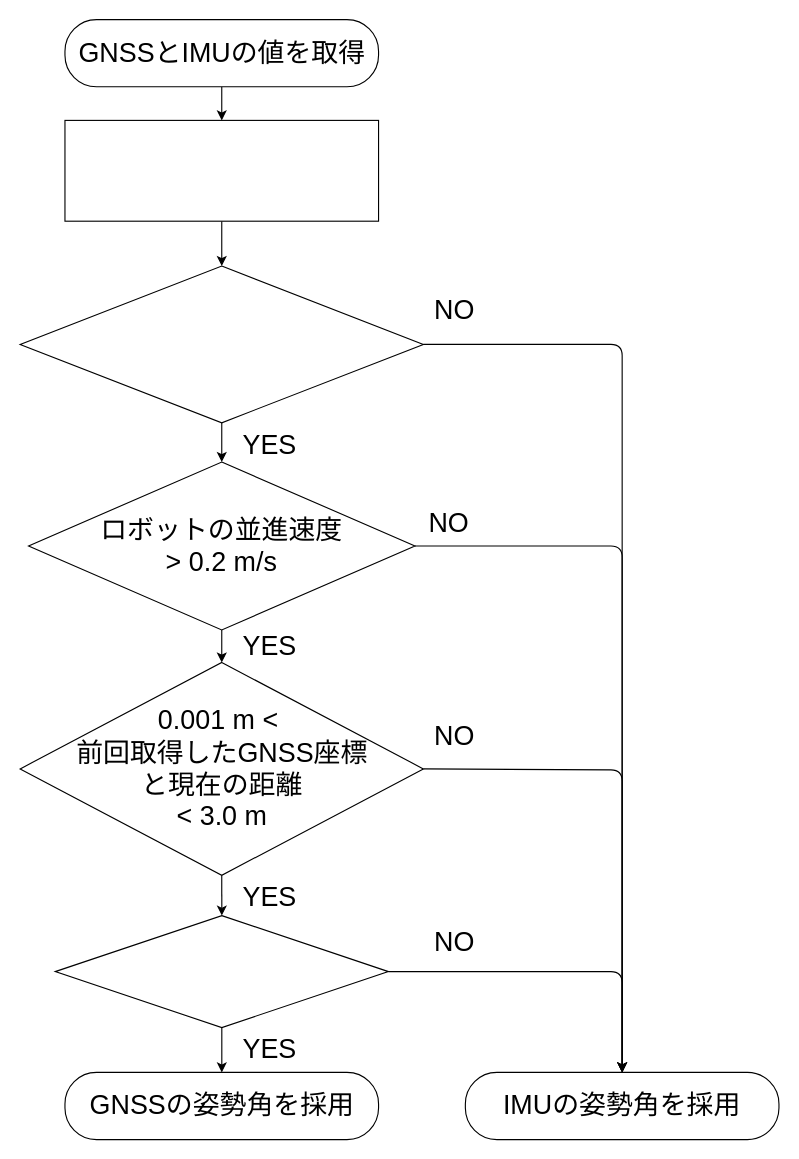
Image size: 799x1159. Some labels were removed from this diagram. Each missing label, with the box of its shape:
fix解が得られているか: (19, 265, 423, 423)
GNSSで姿勢角θtを計算: (64, 119, 379, 221)
θt - θt-1 < π / 5: (54, 914, 388, 1028)
